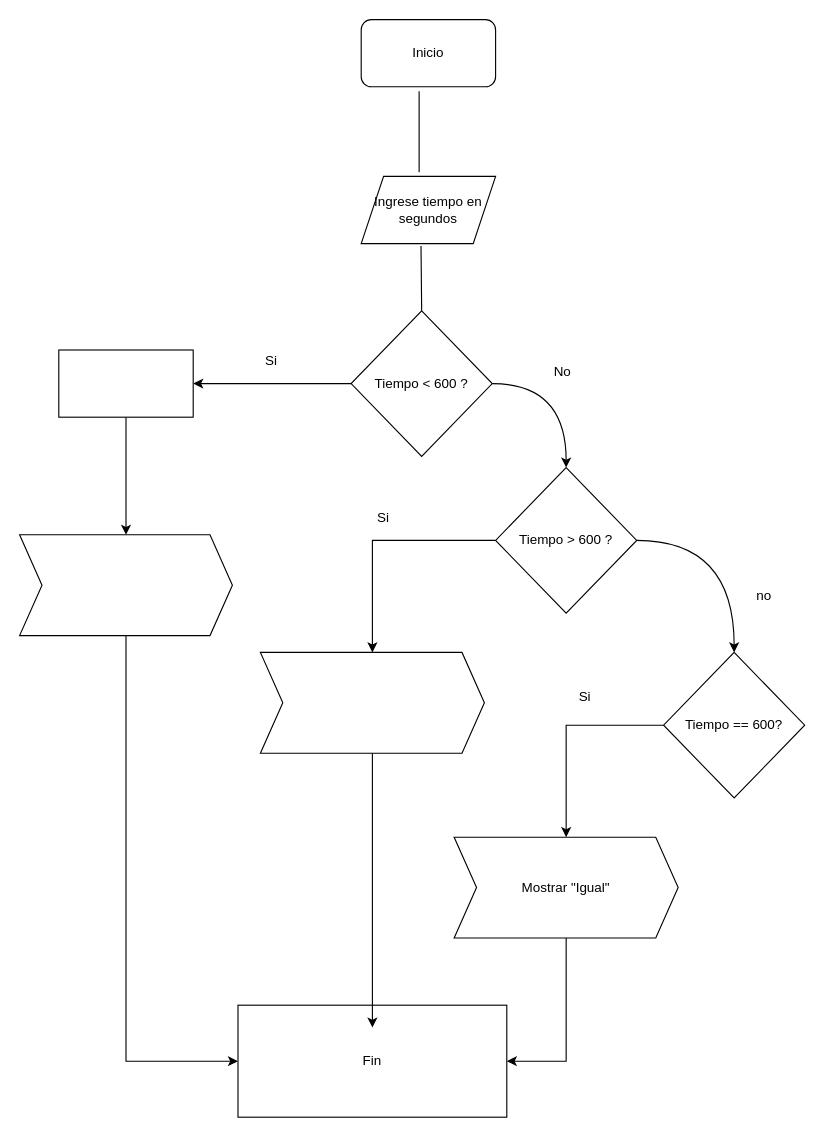
This 824x1137 diagram has some shape labels left out. The shapes that lost their labels are listed below. From the top down, each one's centre as x and y in pixels, then its label:
point 125,383: Calcular cuanto falta para 600
point 125,585: Mostrar segundos faltantes
point 371,702: Mostrar "Mayor"
